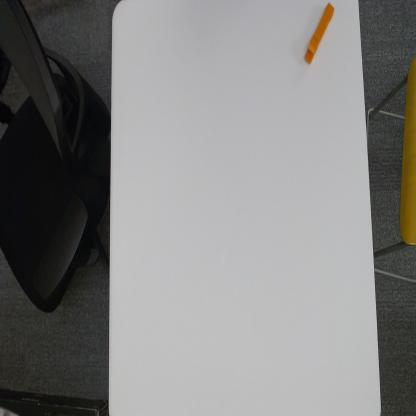Screwdriver: (301, 0, 336, 69)
